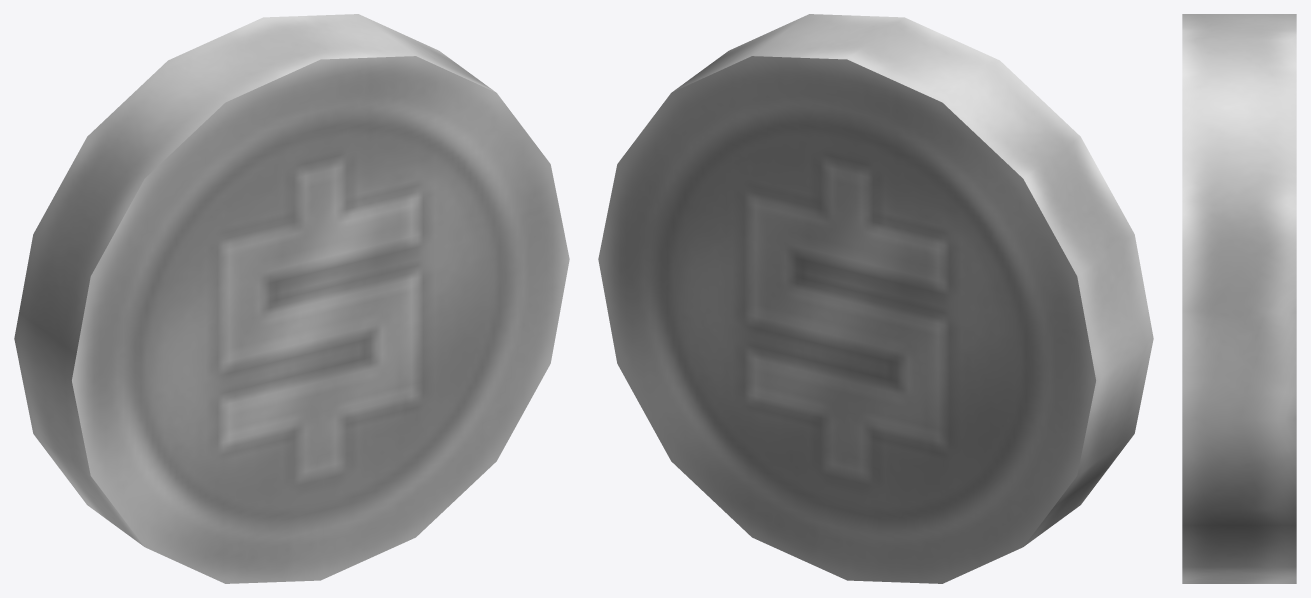
File: Coin_Dollar.FBX
3 renders of one model, left to right at view 1: azimuth 30°, elevation 25°; view 2: azimuth 150°, elevation 25°; view 3: azimuth 270°, elevation 25°, orthographic.
Parts seen in each view (by area): view 1: Coin_Dollar; view 2: Coin_Dollar; view 3: Coin_Dollar.
Part boxes in pixels (x1,y1,x2,y2): Coin_Dollar: [14, 14, 569, 583]; Coin_Dollar: [598, 14, 1153, 583]; Coin_Dollar: [1182, 14, 1296, 583].
Size of the model in its own units: 1 by 1 by 0.2.
